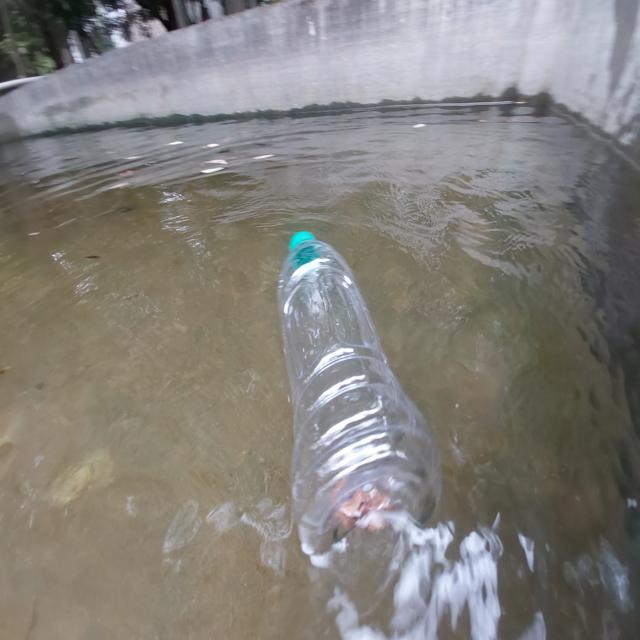waterbottle: (266, 206, 438, 580)
